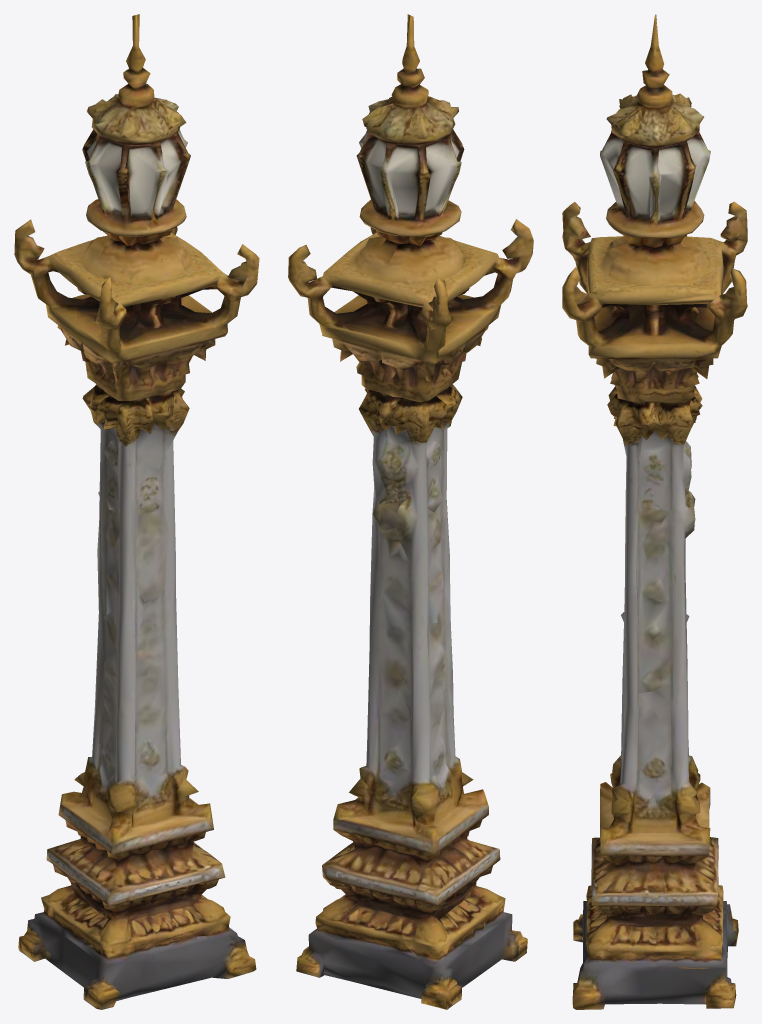
Rendered from lamppost.glb.
The picture shows the model from 3 angles, left to right: view 1: azimuth 30°, elevation 25°; view 2: azimuth 150°, elevation 25°; view 3: azimuth 270°, elevation 25°; orthographic projection.
Visible parts, largest first — view 1: tripo_node_386ef26b-e65e-4963-b2b8-b0ed1a1fa2ac; view 2: tripo_node_386ef26b-e65e-4963-b2b8-b0ed1a1fa2ac; view 3: tripo_node_386ef26b-e65e-4963-b2b8-b0ed1a1fa2ac.
Part boxes in pixels (x1,y1,x2,y2): tripo_node_386ef26b-e65e-4963-b2b8-b0ed1a1fa2ac: [14, 14, 259, 1009]; tripo_node_386ef26b-e65e-4963-b2b8-b0ed1a1fa2ac: [288, 14, 533, 1009]; tripo_node_386ef26b-e65e-4963-b2b8-b0ed1a1fa2ac: [562, 14, 747, 1009].
Size of the model in its own units: 0.319 by 1.8 by 0.3162.
Materials: 1 (1 with a texture image).
